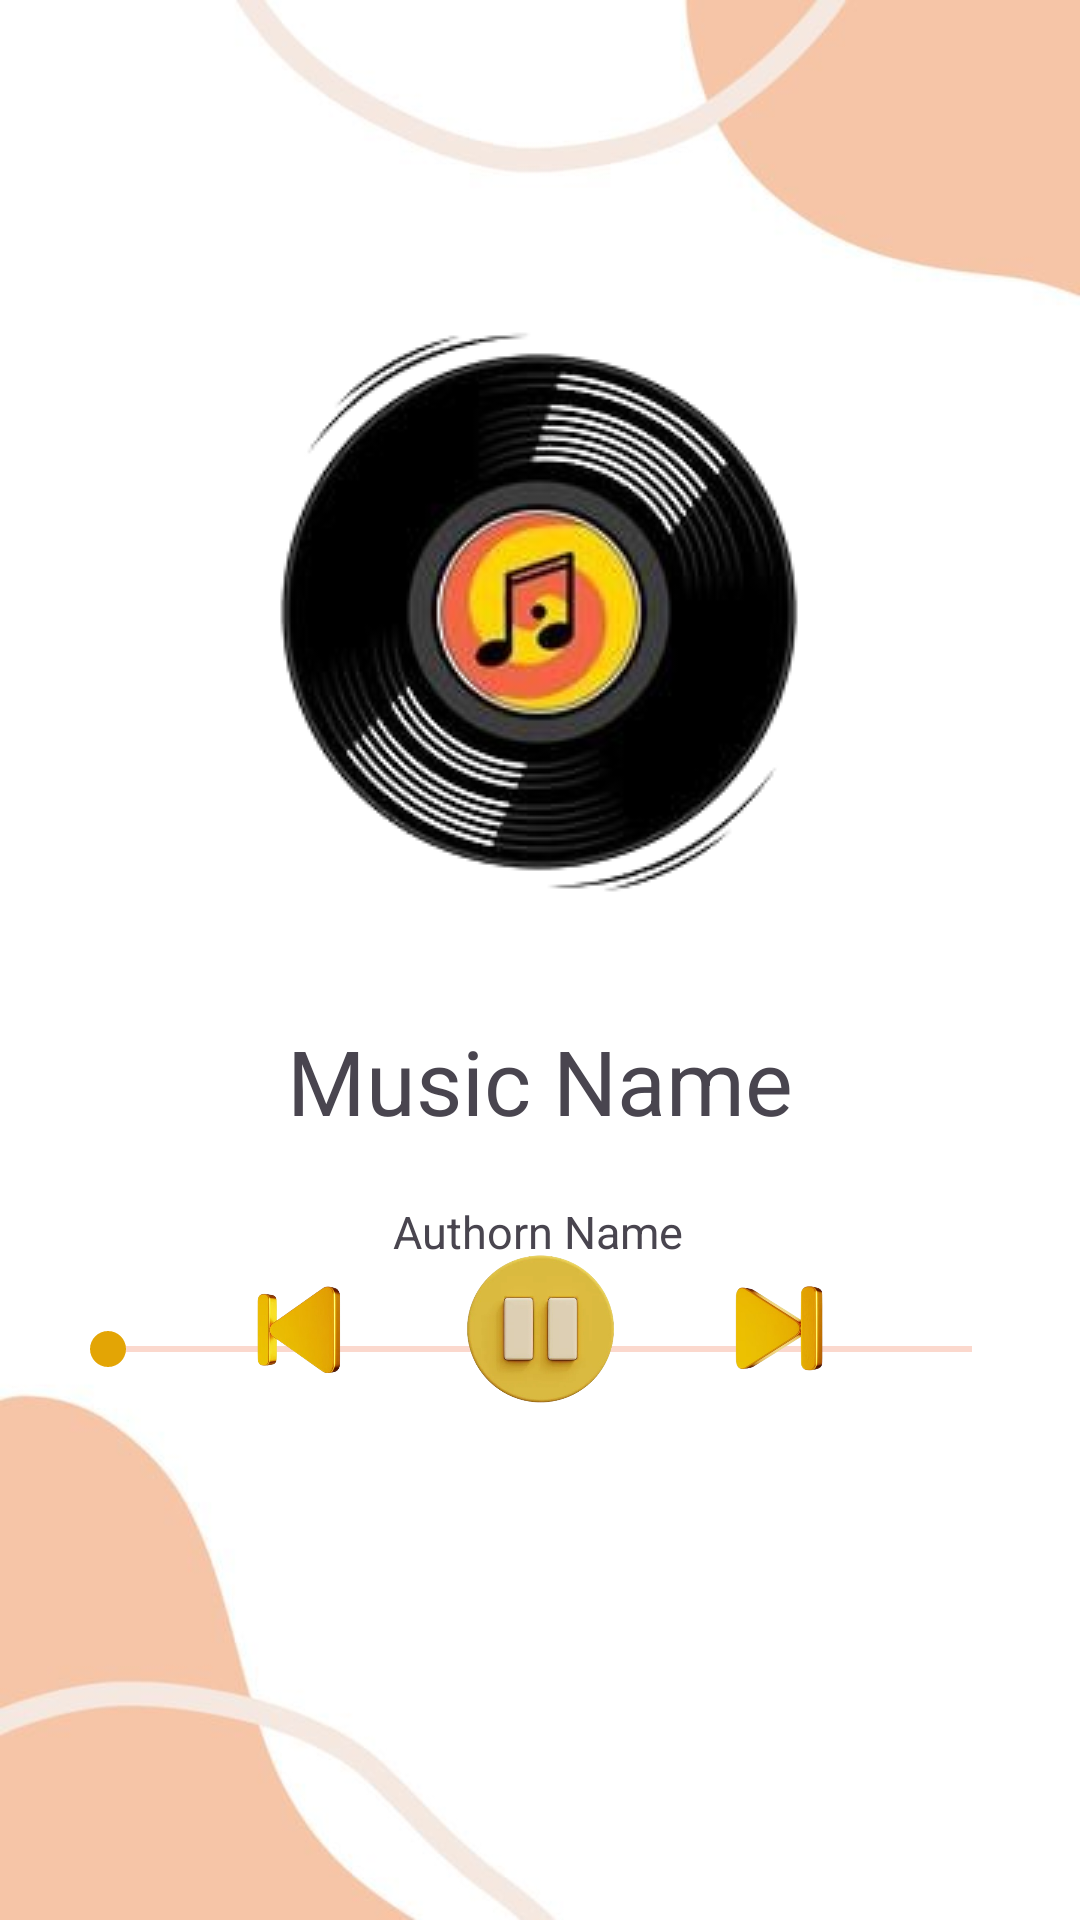

Icons on this 1080px×1920px Android screen, each with its box as {"left": x1, "top": y1, "right": x2, "bottom": y2}:
bak: {"left": 255, "top": 1286, "right": 345, "bottom": 1373}
next: {"left": 735, "top": 1286, "right": 825, "bottom": 1371}
paus: {"left": 465, "top": 1255, "right": 615, "bottom": 1403}
